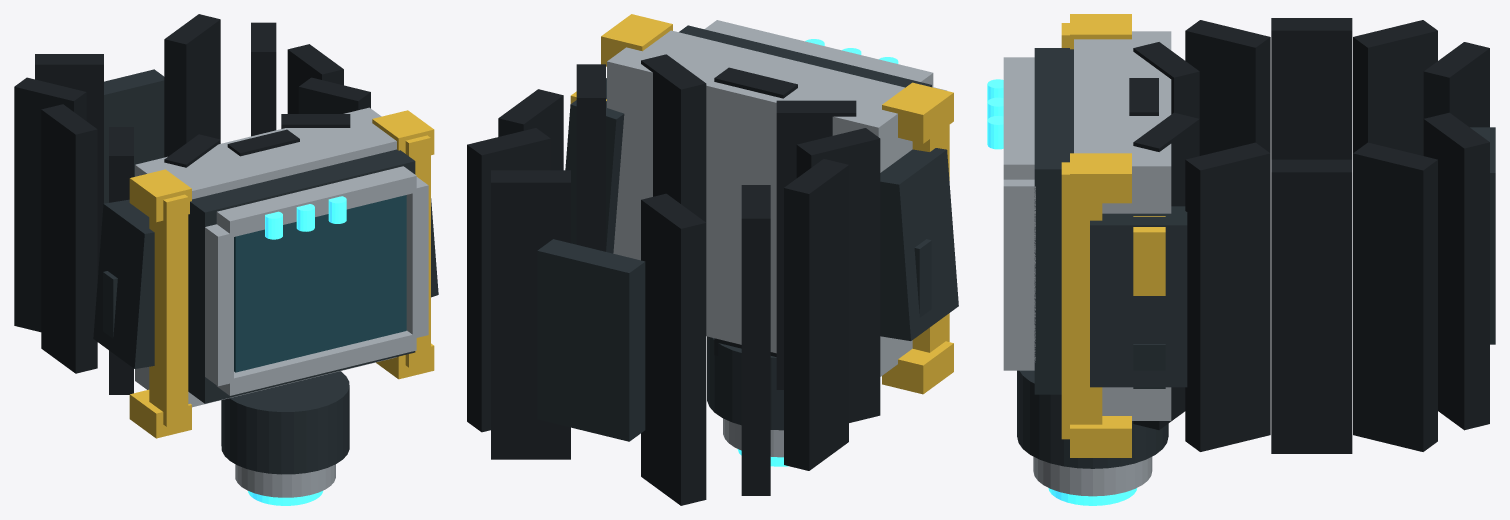
File: veilwatch_projection_cuff_v1.glb
The picture shows the model from 3 angles, left to right: view 1: azimuth 30°, elevation 25°; view 2: azimuth 150°, elevation 25°; view 3: azimuth 270°, elevation 25°; orthographic projection. The views are drawn at different scales.
Parts seen in each view (by area): view 1: DisplayGlass, Band_06, EmitterHousing, HousingBase, HousingInset, Band_07, SideCheek_-1, AccentRail_-1, Band_10, BezelTop, BandClasp, BezelLeft (+21 smaller); view 2: HousingBase, BandClasp, Band_06, Band_08, Band_10, SideCheek_-1, Band_05, Band_07, Band_11, Band_02, Band_01, Band_04 (+12 smaller); view 3: Band_11, Band_01, Band_00, Band_10, SideCheek_1, HousingBase, Band_06, HousingInset, Band_05, Band_07, AccentRail_1, BezelRight (+14 smaller).
Boxes of the visible parts, x1=… form: DisplayGlass: x1=234, y1=195, x2=406, y2=372; Band_06: x1=41, y1=104, x2=97, y2=373; EmitterHousing: x1=221, y1=371, x2=349, y2=474; HousingBase: x1=135, y1=107, x2=396, y2=407; HousingInset: x1=188, y1=149, x2=415, y2=403; Band_07: x1=14, y1=77, x2=86, y2=332; SideCheek_-1: x1=93, y1=199, x2=154, y2=368; AccentRail_-1: x1=149, y1=194, x2=188, y2=426; Band_10: x1=164, y1=14, x2=220, y2=157; BezelTop: x1=216, y1=166, x2=416, y2=237; BandClasp: x1=104, y1=69, x2=164, y2=203; BezelLeft: x1=205, y1=224, x2=233, y2=386; HousingBase: x1=607, y1=30, x2=912, y2=376; BandClasp: x1=537, y1=239, x2=645, y2=441; Band_06: x1=784, y1=159, x2=848, y2=470; Band_08: x1=641, y1=193, x2=706, y2=505; Band_10: x1=491, y1=170, x2=570, y2=459; SideCheek_-1: x1=880, y1=148, x2=958, y2=340; Band_05: x1=796, y1=128, x2=880, y2=422; Band_07: x1=741, y1=185, x2=770, y2=495; Band_11: x1=467, y1=128, x2=550, y2=432; Band_02: x1=641, y1=54, x2=706, y2=222; Band_01: x1=576, y1=64, x2=605, y2=251; Band_04: x1=776, y1=100, x2=856, y2=389; Band_11: x1=1353, y1=142, x2=1437, y2=451; Band_01: x1=1185, y1=142, x2=1270, y2=451; Band_00: x1=1271, y1=159, x2=1352, y2=453; Band_10: x1=1423, y1=112, x2=1489, y2=430; SideCheek_1: x1=1090, y1=206, x2=1187, y2=387; HousingBase: x1=1074, y1=31, x2=1171, y2=420; Band_06: x1=1271, y1=18, x2=1352, y2=159; HousingInset: x1=1034, y1=48, x2=1073, y2=394; Band_05: x1=1185, y1=20, x2=1270, y2=155; Band_07: x1=1353, y1=20, x2=1437, y2=155; AccentRail_1: x1=1061, y1=162, x2=1102, y2=439; BezelRight: x1=1003, y1=179, x2=1035, y2=362.
Bounding box in the file's own units: 0.1531 × 0.1605 × 0.188.
